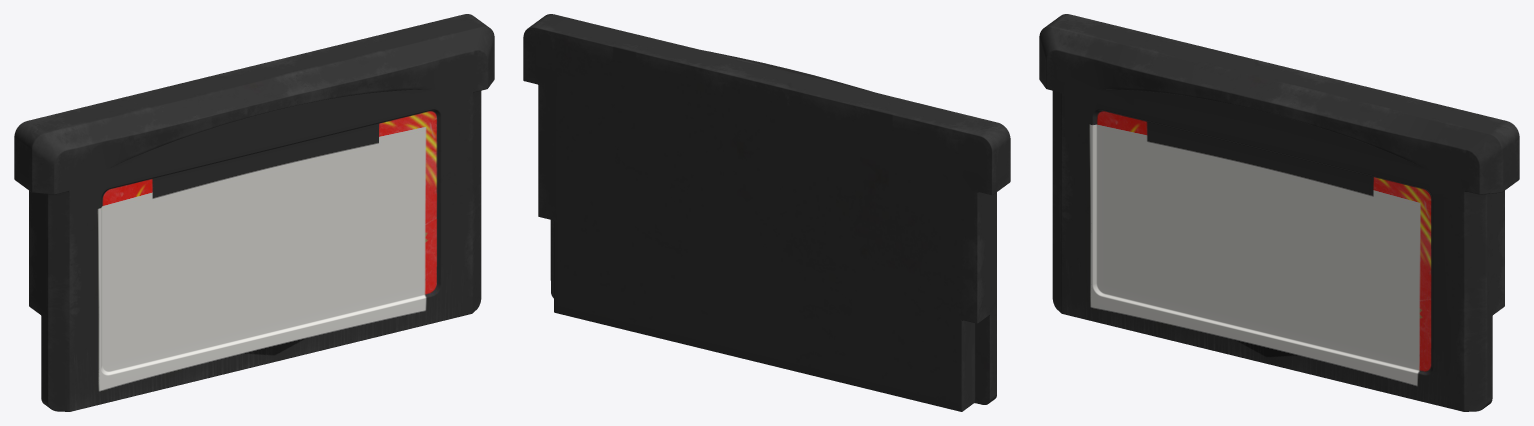
3 views of the same model, side by side, from view 1: azimuth 30°, elevation 25°; view 2: azimuth 150°, elevation 25°; view 3: azimuth 330°, elevation 25° (orthographic).
Visible parts, largest first — view 1: Cartridge_geo; view 2: Cartridge_geo; view 3: Cartridge_geo.
Part boxes in pixels (x1,y1,x2,y2): Cartridge_geo: [14, 14, 494, 411]; Cartridge_geo: [523, 14, 1010, 411]; Cartridge_geo: [1039, 14, 1519, 411].
Size of the model in its own units: 0.0622 by 0.0356 by 0.00713.
Materials: 1 (1 with a texture image).
